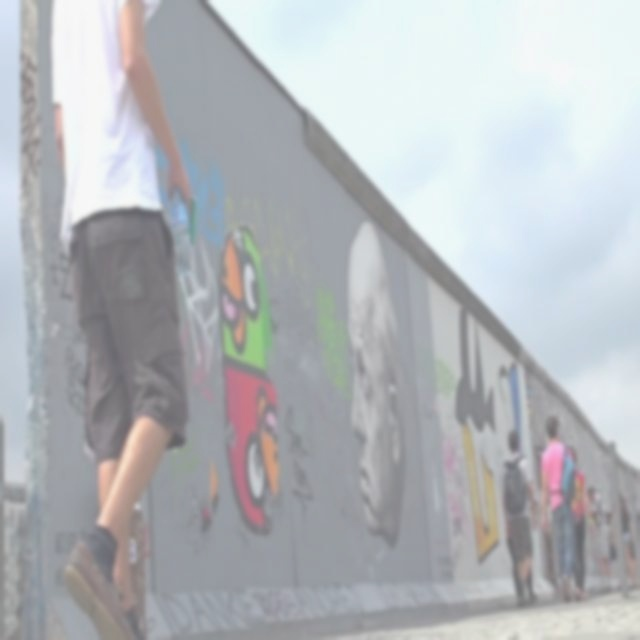pessoa: (46, 0, 200, 639), (216, 218, 284, 540), (344, 215, 408, 552), (537, 411, 582, 608), (497, 425, 540, 611), (502, 449, 540, 612), (566, 444, 596, 606), (584, 482, 616, 598), (612, 487, 639, 592), (604, 510, 618, 590), (605, 510, 619, 580), (630, 492, 640, 587)
